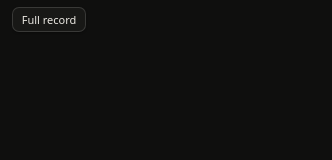
loads the full run record on request
The width and height of the screenshot is (332, 160).
Click the button "Full record".
click(49, 19)  # box [12, 7, 86, 32]
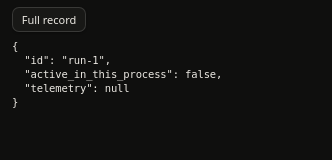
Expected: the text "active_in_this_process" is shown, [12, 40, 222, 108]
